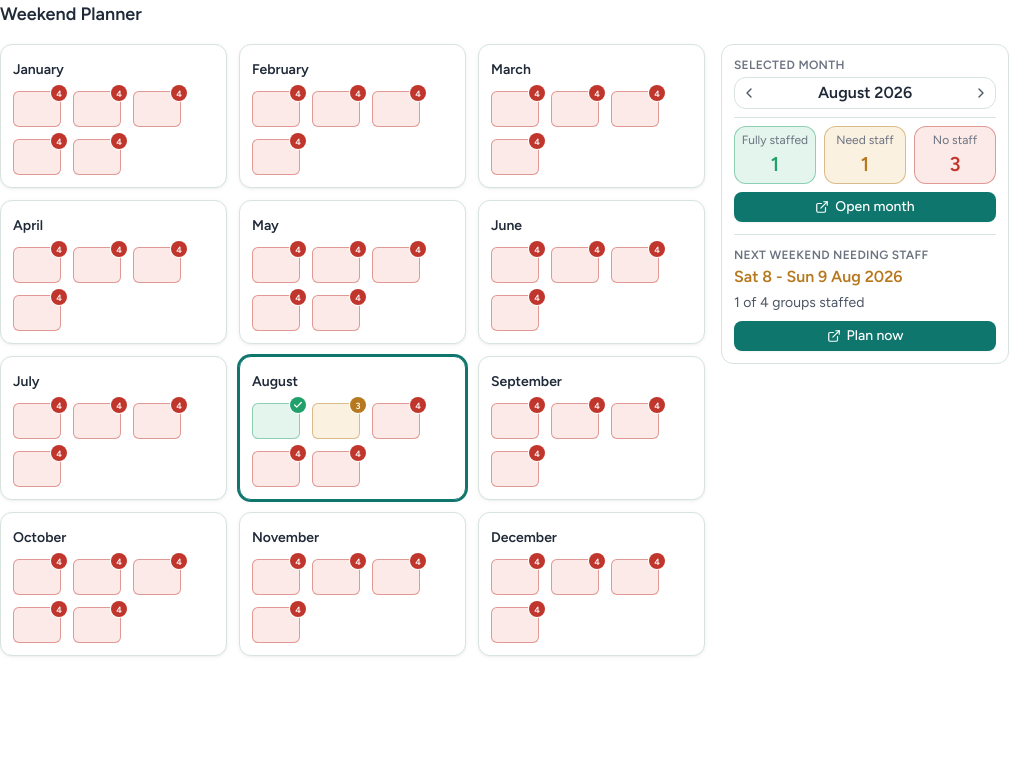
WeekendYearOverview › Selected month panel has chevrons and a jump-to-month sheet, independent of the year selector above
The width and height of the screenshot is (1024, 768).
Click the button named "Next month": {"x": 981, "y": 93} [967, 78, 995, 108]
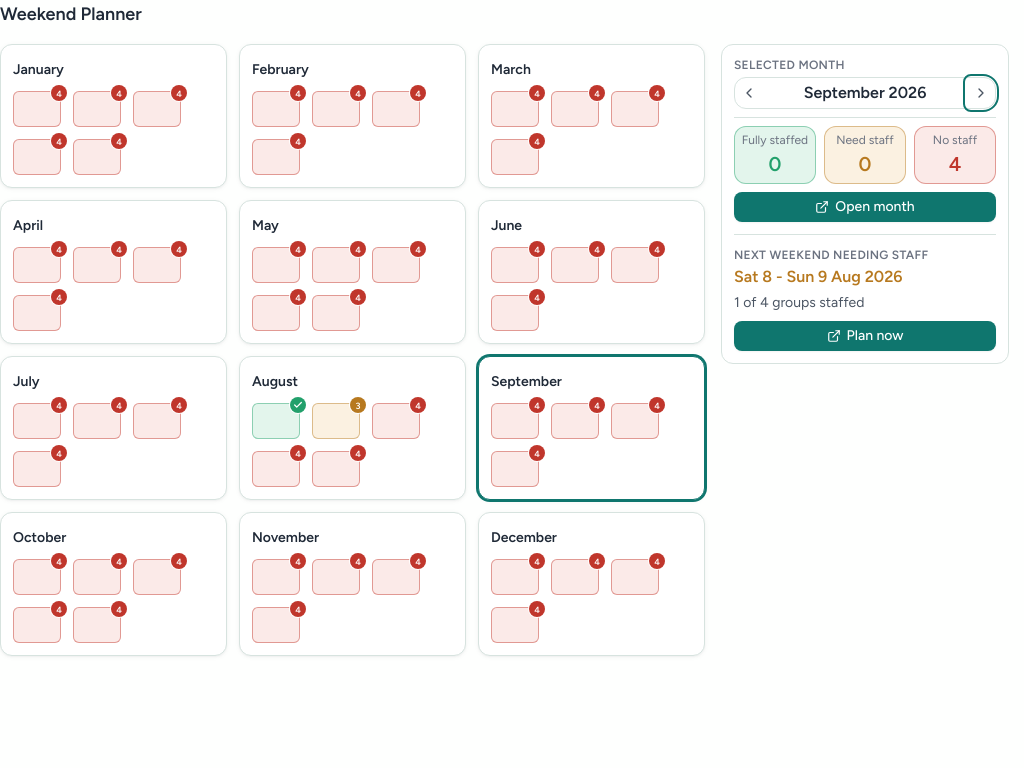
Now the button "September 2026" is shown
Click the button "September 2026": {"x": 865, "y": 93} [763, 81, 967, 105]
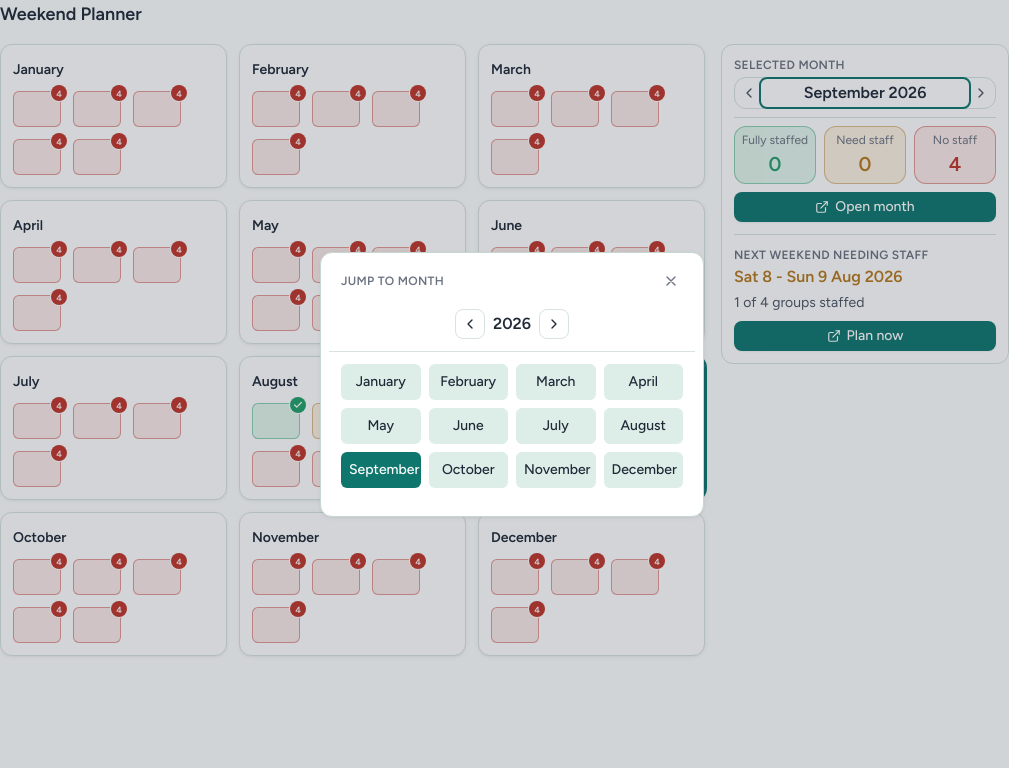
Click the button "March": {"x": 556, "y": 382} [516, 364, 596, 400]
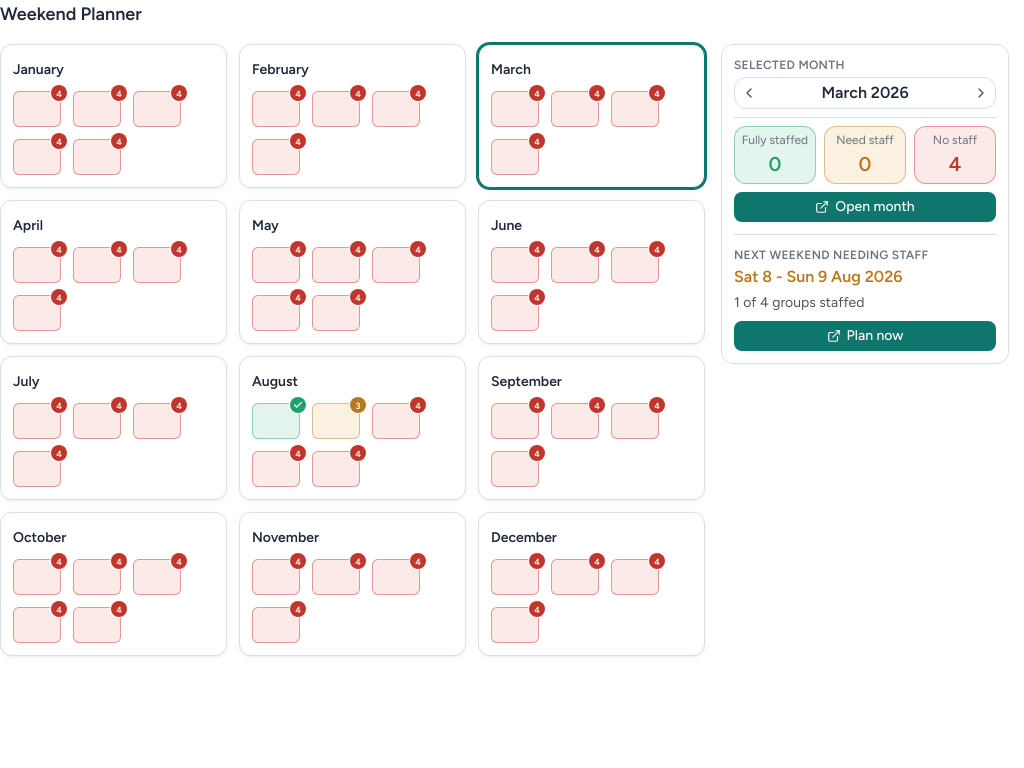
Now the button "March 2026" is shown, box [763, 81, 967, 105]
